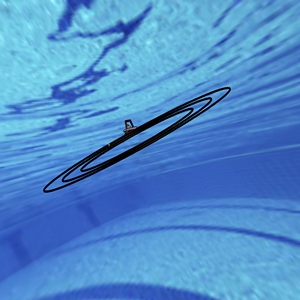circle: (33, 79, 248, 201)
submarine: (117, 114, 141, 136)
